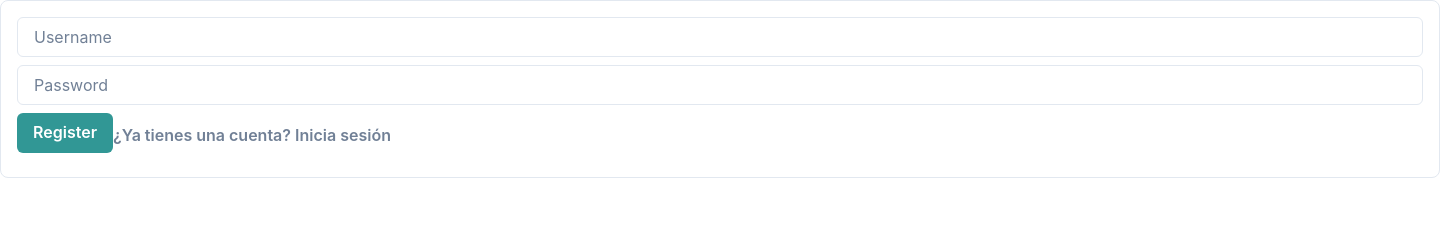
shows error message when registration fails
Type "John Doe" into the field with placeholder "Username".
click(720, 37); type("John Doe")  # box [17, 17, 1423, 57]
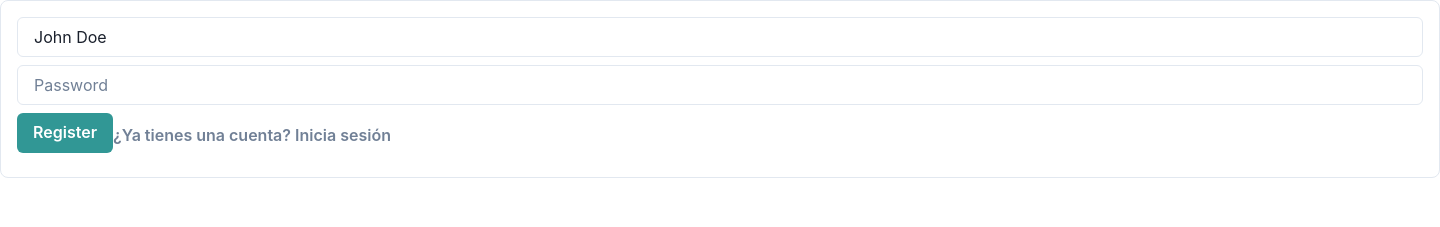
Type "password123" into the password field with placeholder "Password".
click(720, 85); type("password123")  # box [17, 65, 1423, 105]
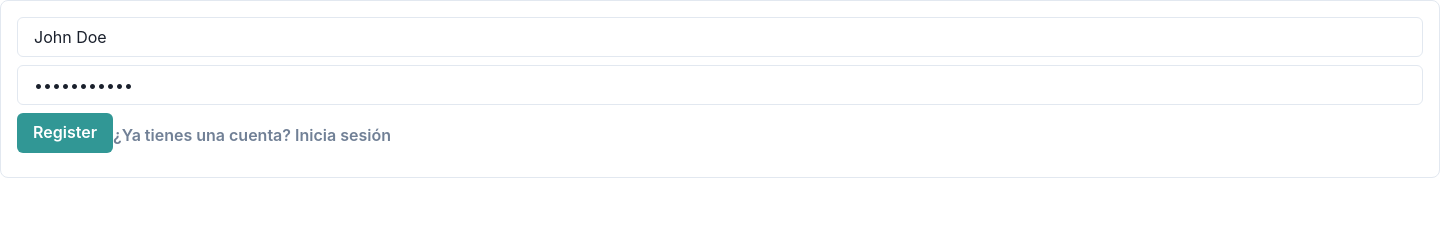
Click the button "Register".
click(65, 133)  # box [17, 113, 113, 153]
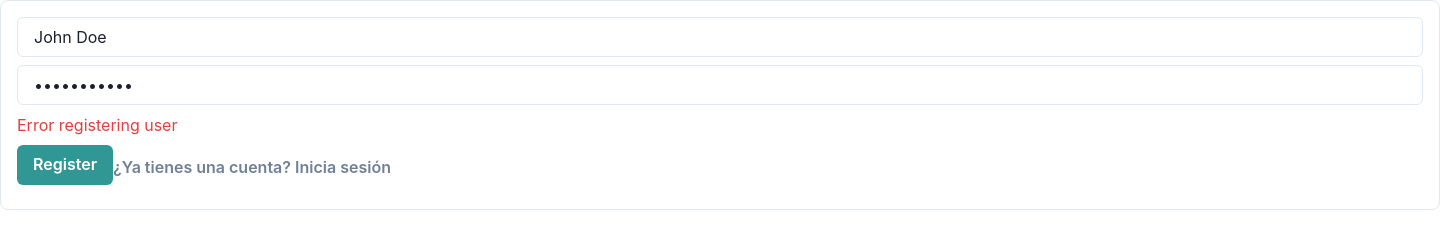
expect the text "Error registering user" is shown: met, box [17, 115, 178, 135]
